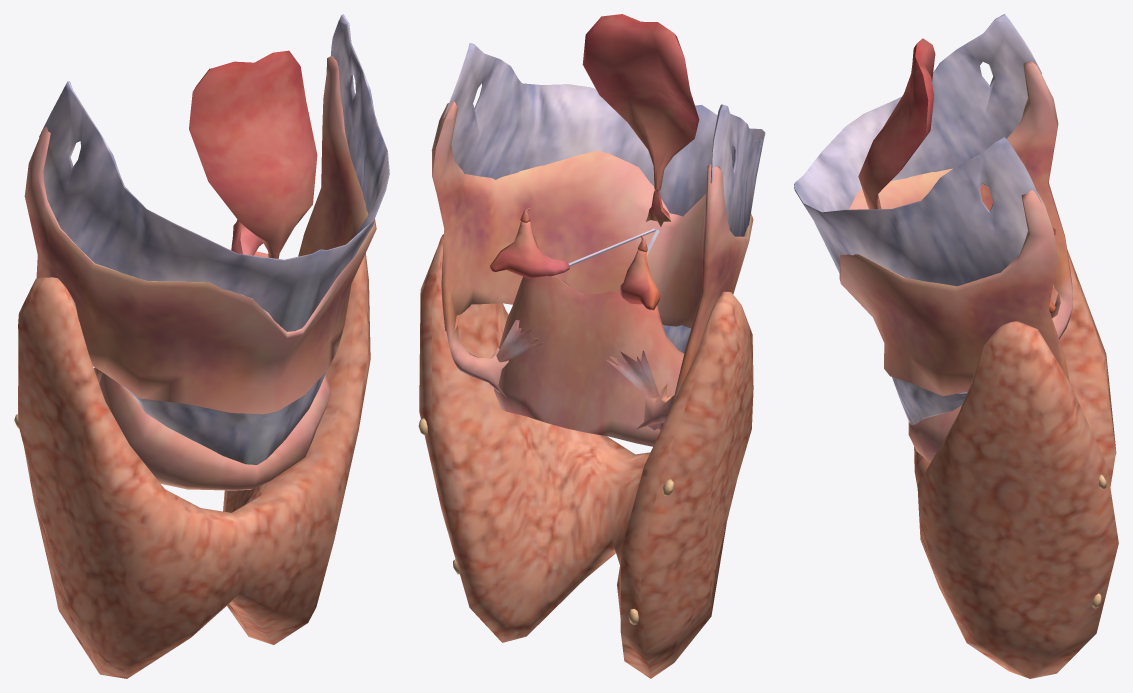
File: 2.3 Larynx.glb
The picture shows the model from 3 angles, left to right: view 1: azimuth 30°, elevation 25°; view 2: azimuth 150°, elevation 25°; view 3: azimuth 270°, elevation 25°; orthographic projection. The views are drawn at different scales.
Parts seen in each view (by area): view 1: Thyroid_Gland, Thyroid_Cartilage, Thyrohyoid_Membrane, Epiglottis, Cricoid_Cartilage, Cricothyroid_Ligament, L_Arytenoid_Cartilage; view 2: Thyroid_Gland, Thyroid_Cartilage, Thyrohyoid_Membrane, Cricoid_Cartilage, Epiglottis, L_Arytenoid_Cartilage, Fan_Ligament, R_Arytenoid_Cartilage; view 3: Thyroid_Gland, Thyrohyoid_Membrane, Thyroid_Cartilage, Epiglottis, Cricothyroid_Ligament, Cricoid_Cartilage.
Part boxes in pixels (box(x1,y1,x2,y2)): Thyroid_Gland: box(18, 253, 370, 678); Thyroid_Cartilage: box(24, 55, 376, 414); Thyrohyoid_Membrane: box(39, 14, 389, 331); Epiglottis: box(189, 50, 317, 258); Cricoid_Cartilage: box(99, 249, 331, 490); Cricothyroid_Ligament: box(120, 372, 325, 464); L_Arytenoid_Cartilage: box(231, 219, 262, 255); Thyroid_Gland: box(419, 234, 753, 678); Thyroid_Cartilage: box(431, 100, 753, 430); Thyrohyoid_Membrane: box(443, 43, 765, 236); Cricoid_Cartilage: box(494, 275, 684, 446); Epiglottis: box(582, 14, 699, 191); L_Arytenoid_Cartilage: box(490, 221, 569, 278); Fan_Ligament: box(496, 320, 659, 398); R_Arytenoid_Cartilage: box(619, 250, 660, 310); Thyroid_Gland: box(914, 249, 1118, 678); Thyrohyoid_Membrane: box(794, 14, 1041, 286); Thyroid_Cartilage: box(839, 61, 1072, 395); Epiglottis: box(858, 38, 935, 209); Cricothyroid_Ligament: box(892, 377, 966, 425); Cricoid_Cartilage: box(908, 392, 967, 462).
Bounding box in the file's own units: 0.0574 × 0.1039 × 0.0516.
Materials: 1 (1 with a texture image).
